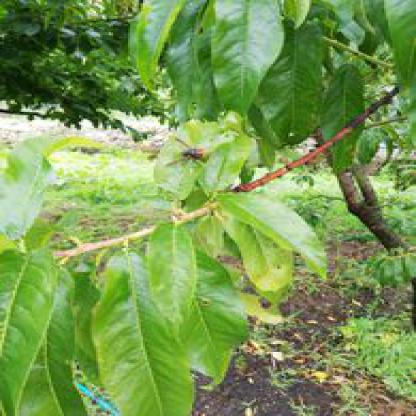Asian Hornet: (170, 139, 224, 170)
